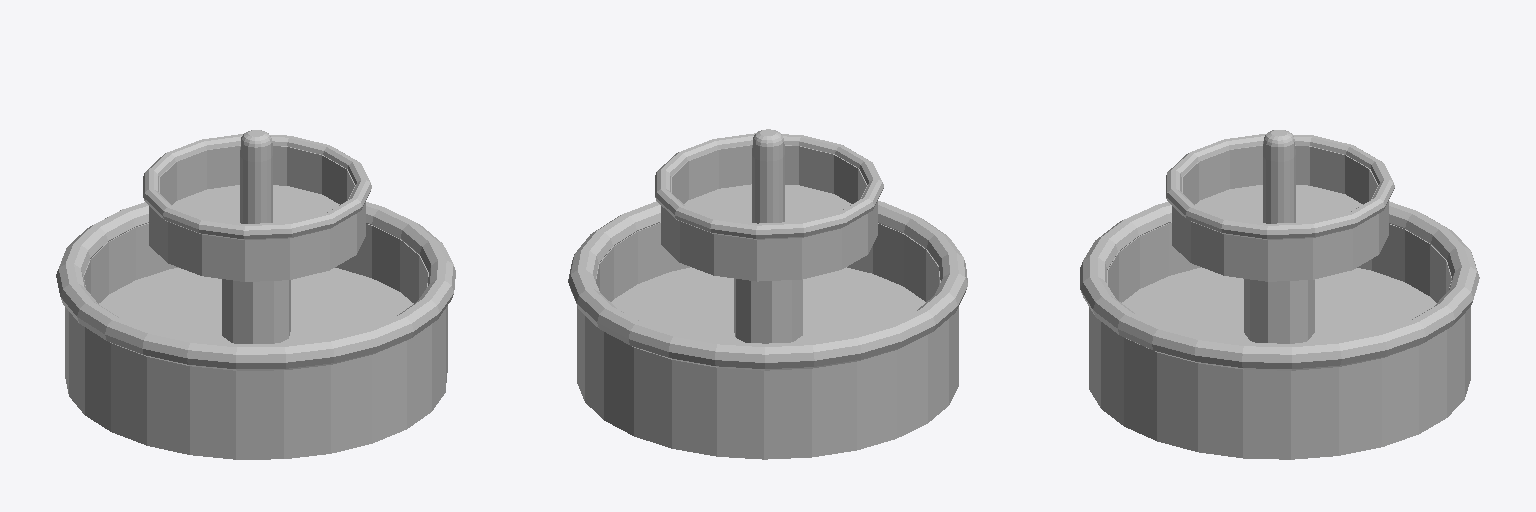
The model's file is fonte.obj.
3 views of the same model, side by side, from view 1: azimuth 30°, elevation 25°; view 2: azimuth 150°, elevation 25°; view 3: azimuth 270°, elevation 25° (orthographic).
Parts seen in each view (by area): view 1: Fonte; view 2: Fonte; view 3: Fonte.
Part boxes in pixels (x1,y1,x2,y2): Fonte: (56,130,455,459); Fonte: (568,129,967,459); Fonte: (1080,130,1479,459).
Bounding box in the file's own units: 14.61 × 9.9 × 14.58.